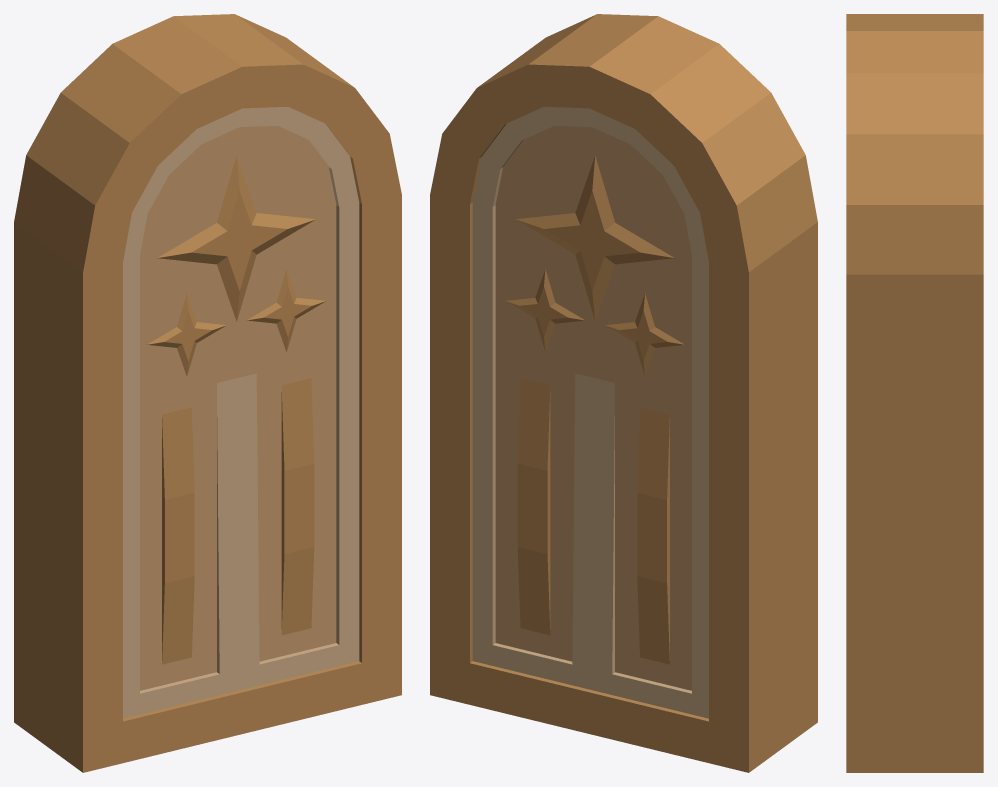
The model's file is Wall_Straight_Door_Stars.fbx.
3 views of the same model, side by side, from view 1: azimuth 30°, elevation 25°; view 2: azimuth 150°, elevation 25°; view 3: azimuth 270°, elevation 25° (orthographic).
Parts seen in each view (by area): view 1: Sandstone_6.Sandstone_6.Sandstone_6.Sandstone_6.Sandstone_6., Sandstone_5.Sandstone_5, Sandstone_4.Sandstone_4.Sandstone_4.Sandstone_4.Sandstone_4.; view 2: Sandstone_6.Sandstone_6.Sandstone_6.Sandstone_6.Sandstone_6., Sandstone_5.Sandstone_5, Sandstone_4.Sandstone_4.Sandstone_4.Sandstone_4.Sandstone_4.; view 3: Sandstone_6.Sandstone_6.Sandstone_6.Sandstone_6.Sandstone_6..
Part boxes in pixels (<box>): Sandstone_6.Sandstone_6.Sandstone_6.Sandstone_6.Sandstone_6.: <box>14,14,401,772</box>; Sandstone_5.Sandstone_5: <box>140,126,336,690</box>; Sandstone_4.Sandstone_4.Sandstone_4.Sandstone_4.Sandstone_4.: <box>123,106,359,718</box>; Sandstone_6.Sandstone_6.Sandstone_6.Sandstone_6.Sandstone_6.: <box>430,14,817,772</box>; Sandstone_5.Sandstone_5: <box>495,126,691,690</box>; Sandstone_4.Sandstone_4.Sandstone_4.Sandstone_4.Sandstone_4.: <box>472,106,708,718</box>; Sandstone_6.Sandstone_6.Sandstone_6.Sandstone_6.Sandstone_6.: <box>846,14,983,772</box>.
Size of the model in its own units: 0.8 by 1.6 by 0.3.
